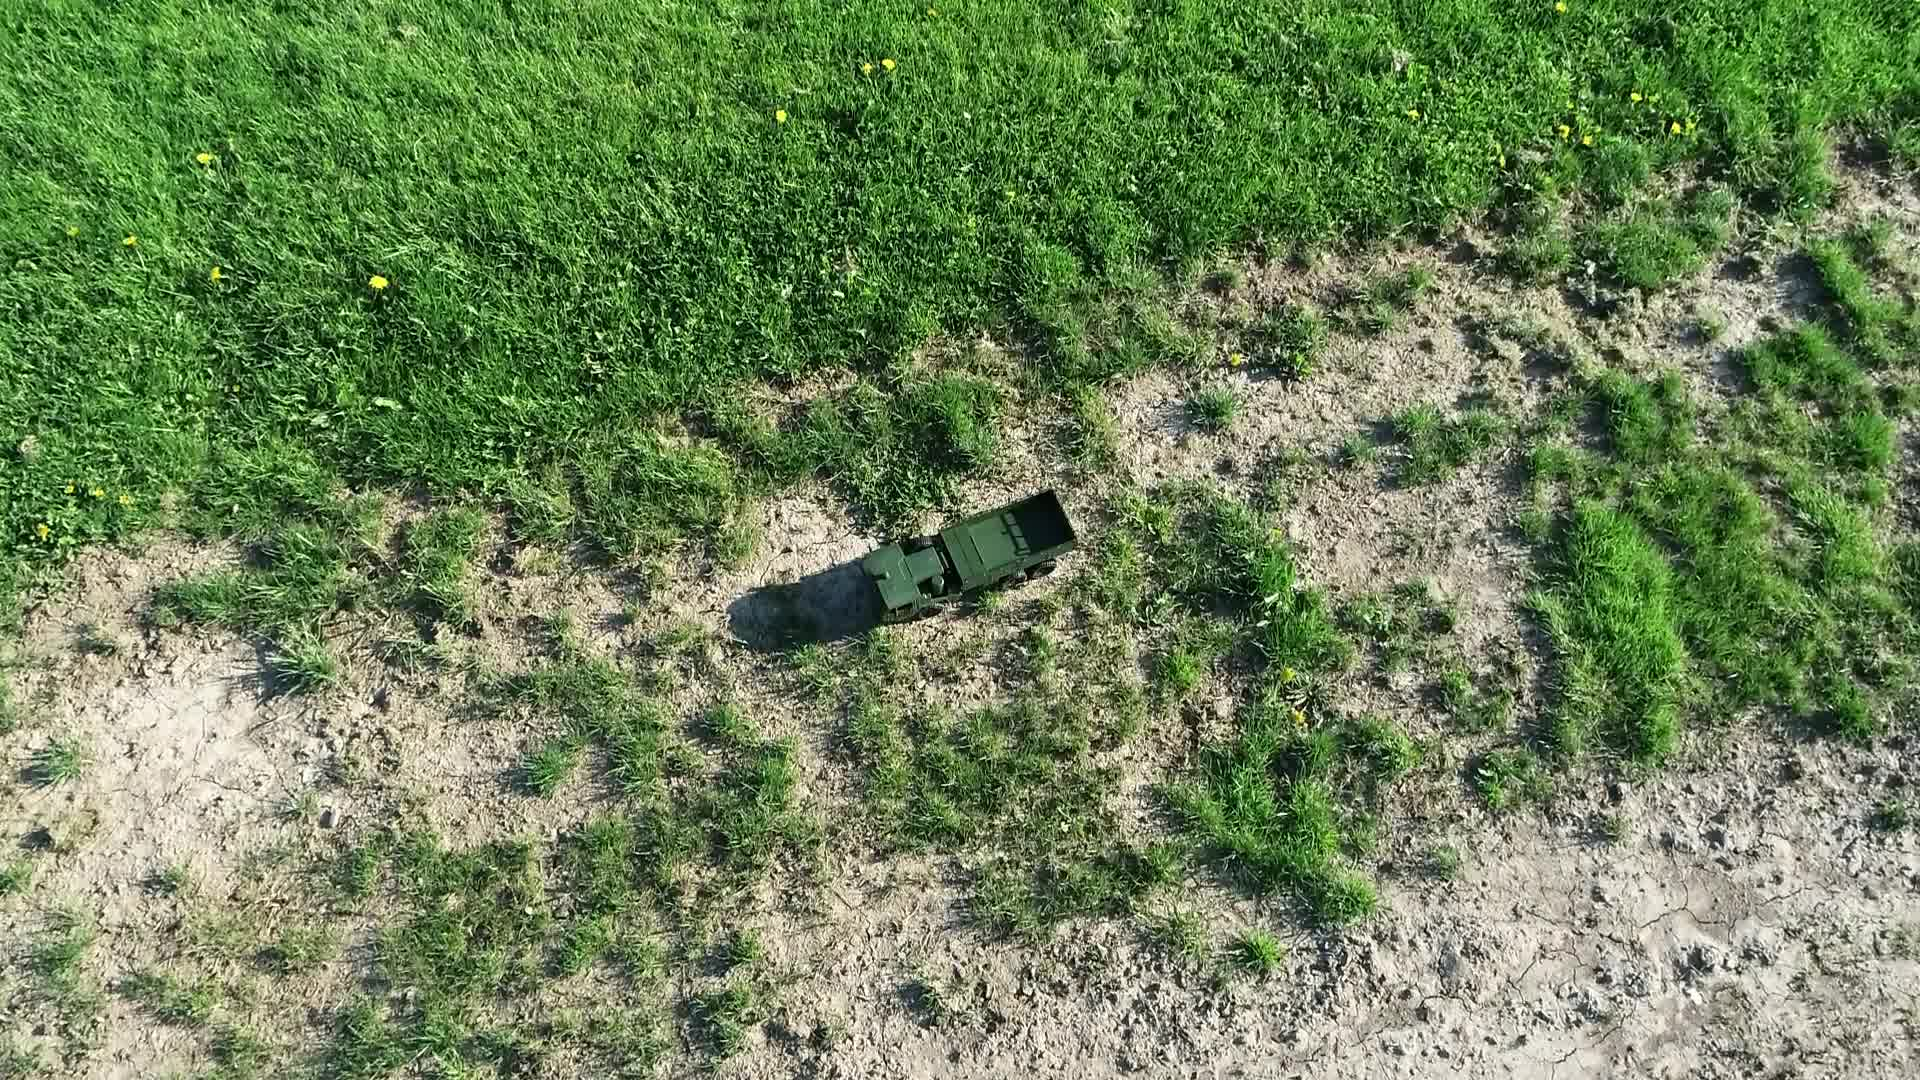transporter9: (848, 477, 1077, 615)
